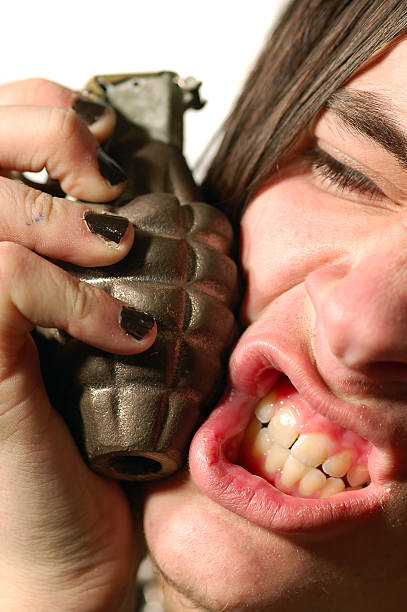e1: (43, 68, 234, 470)
